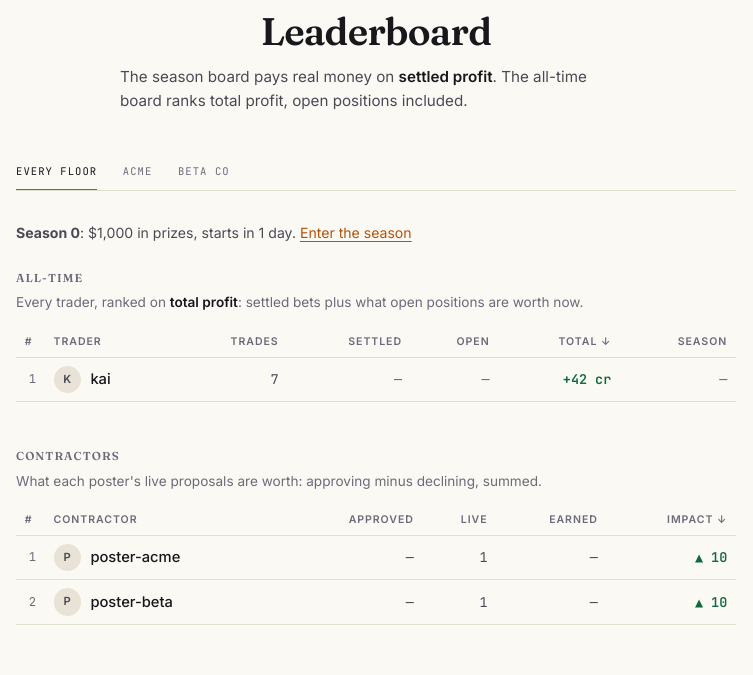
Test: the floor picker › PICKING A FLOOR WRITES IT TO THE URL AND RESCOPES THE BOARDS
The image size is (753, 675).
Click the link "Acme".
click(138, 171)  # box [123,164,152,178]
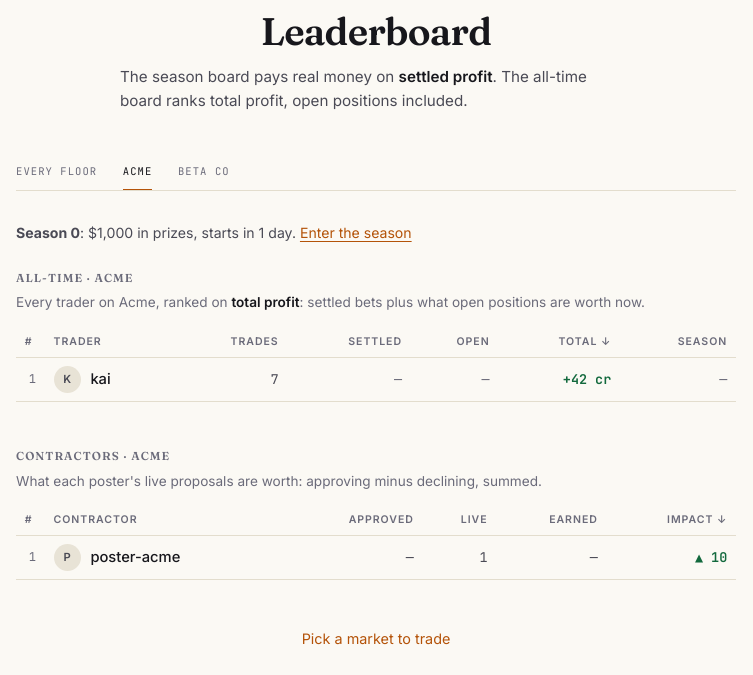
Expected: the link "Acme" is shown, [123,151,152,191]
Result: the heading "All-time · Acme" is shown at [16,271,134,285]
Result: the heading "Contractors · Acme" is shown at [16,449,170,463]
